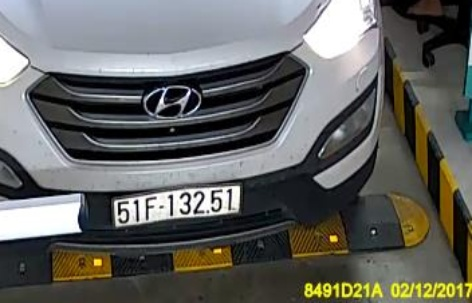plate: (110, 186, 243, 225)
